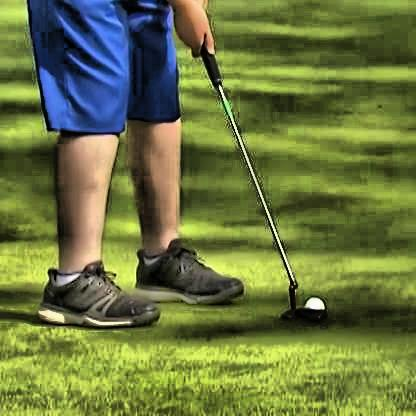golfball: (304, 294, 323, 310)
